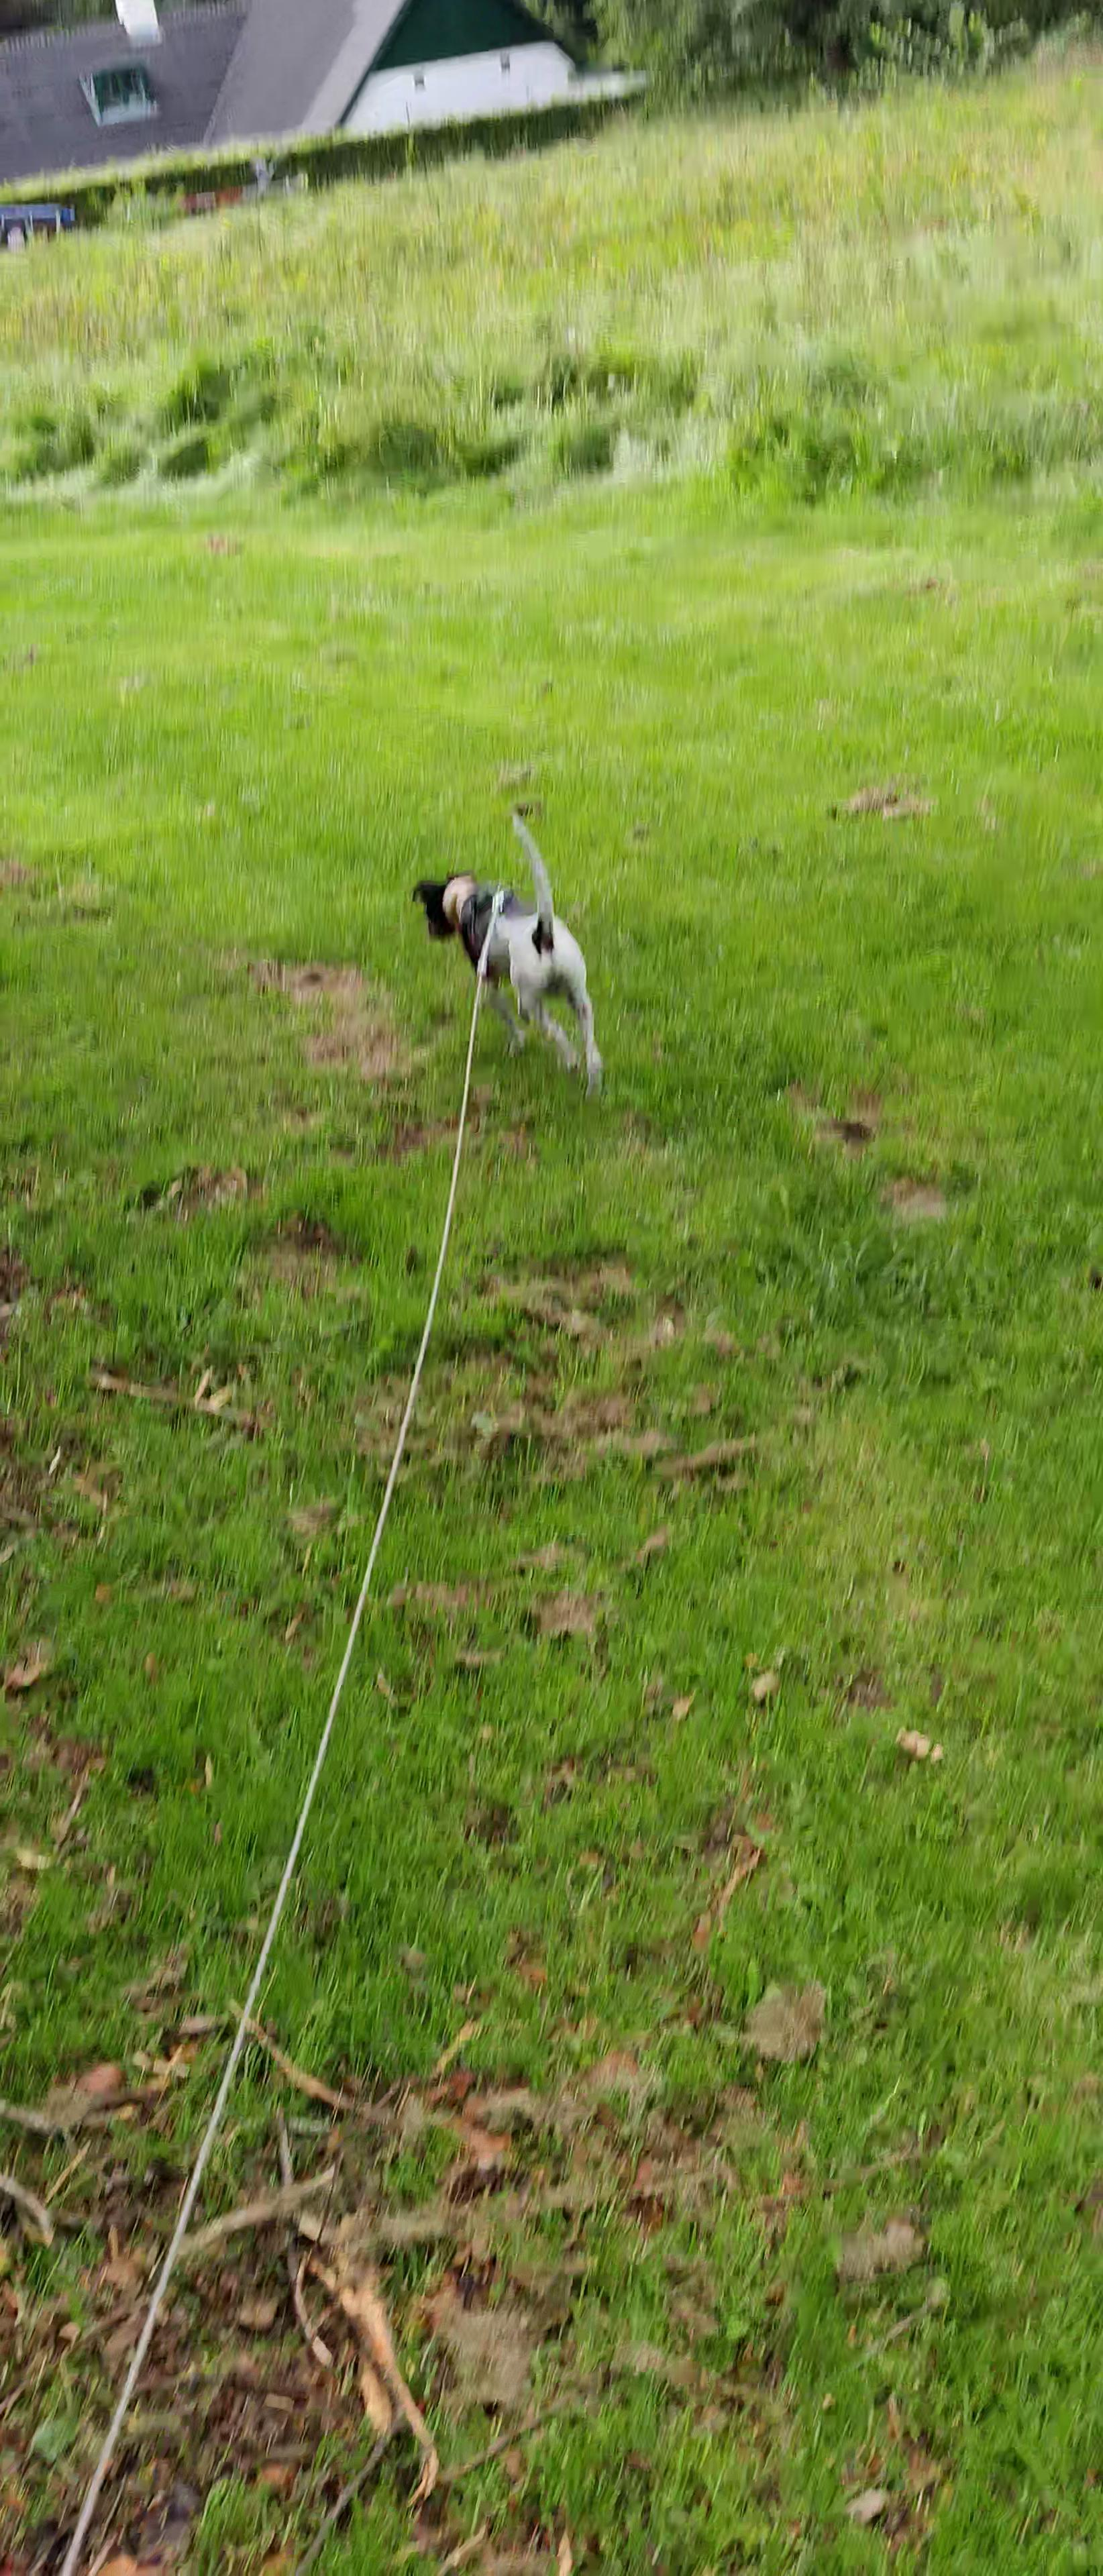Dog: (411, 810, 615, 1104)
